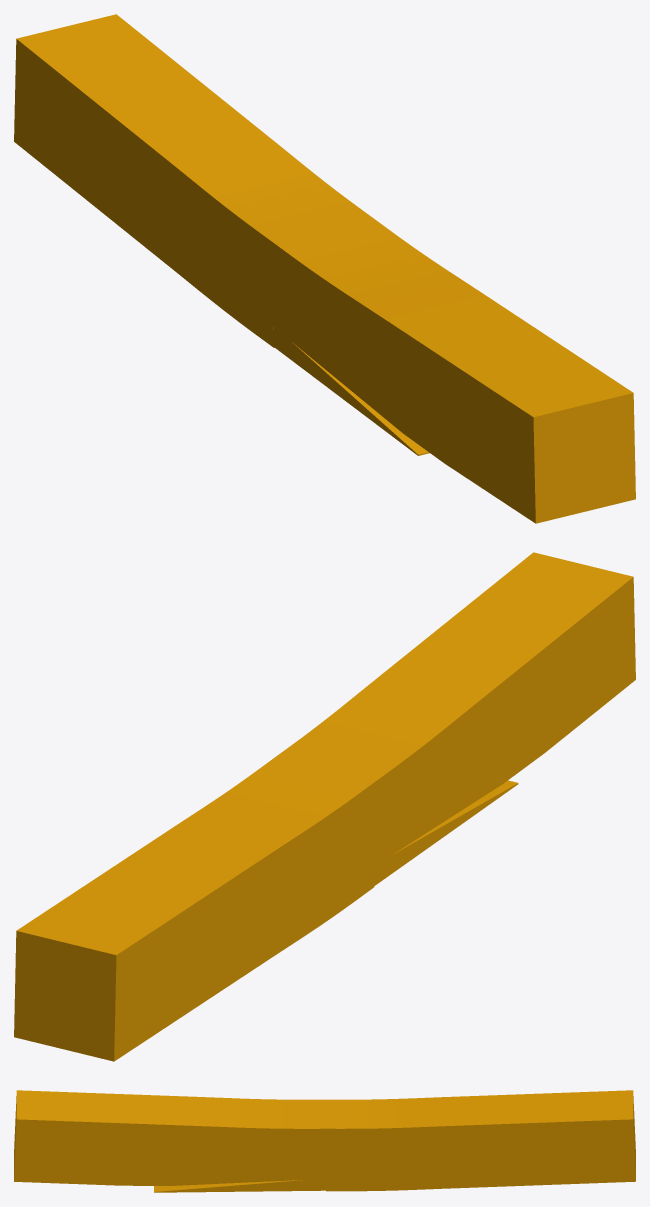
Rendered from Flexion_rota.gltf.
The picture shows the model from 3 angles, top to bottom: view 1: azimuth 30°, elevation 25°; view 2: azimuth 150°, elevation 25°; view 3: azimuth 270°, elevation 25°; orthographic projection. The views are drawn at different scales.
Visible parts, largest first — view 1: Cube, Cubo.002; view 2: Cube, Cubo.002; view 3: Cube, Cubo.002.
Part boxes in pixels (box(x1,y1,x2,y2)): Cube: box(14, 14, 635, 523); Cubo.002: box(273, 326, 429, 455); Cube: box(14, 552, 635, 1061); Cubo.002: box(374, 780, 518, 886); Cube: box(14, 1090, 635, 1191); Cubo.002: box(154, 1179, 326, 1192).
Size of the model in its own units: 1 by 1.17 by 9.02.
